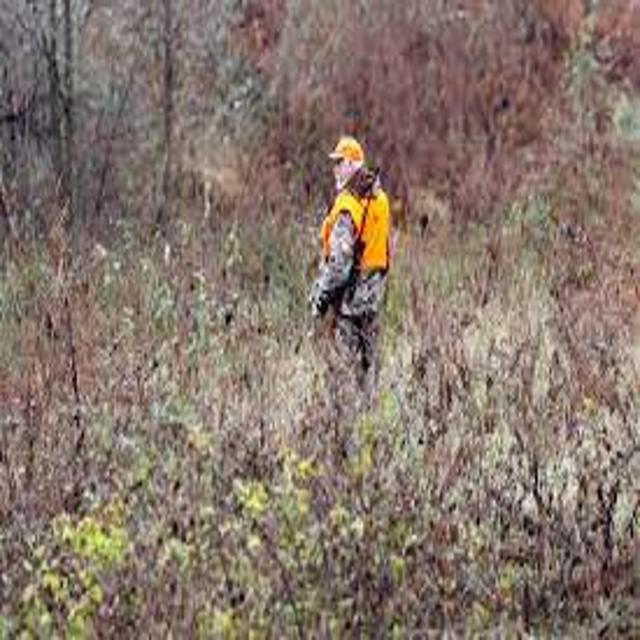poacher: (258, 111, 446, 437)
